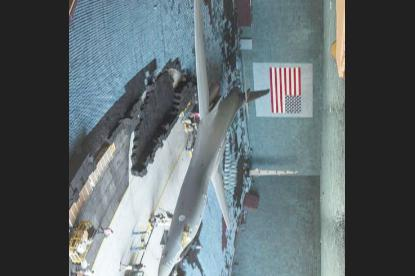AV8B: (149, 0, 272, 275)
